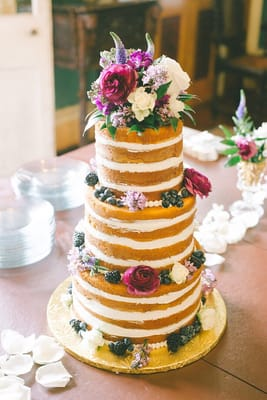curry: (1, 140, 267, 398)
sushi: (66, 116, 209, 336)
